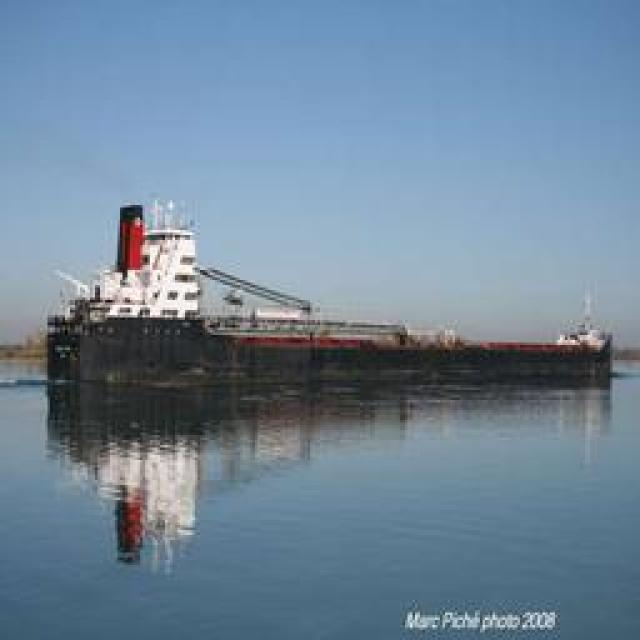Ship: (26, 224, 614, 367)
